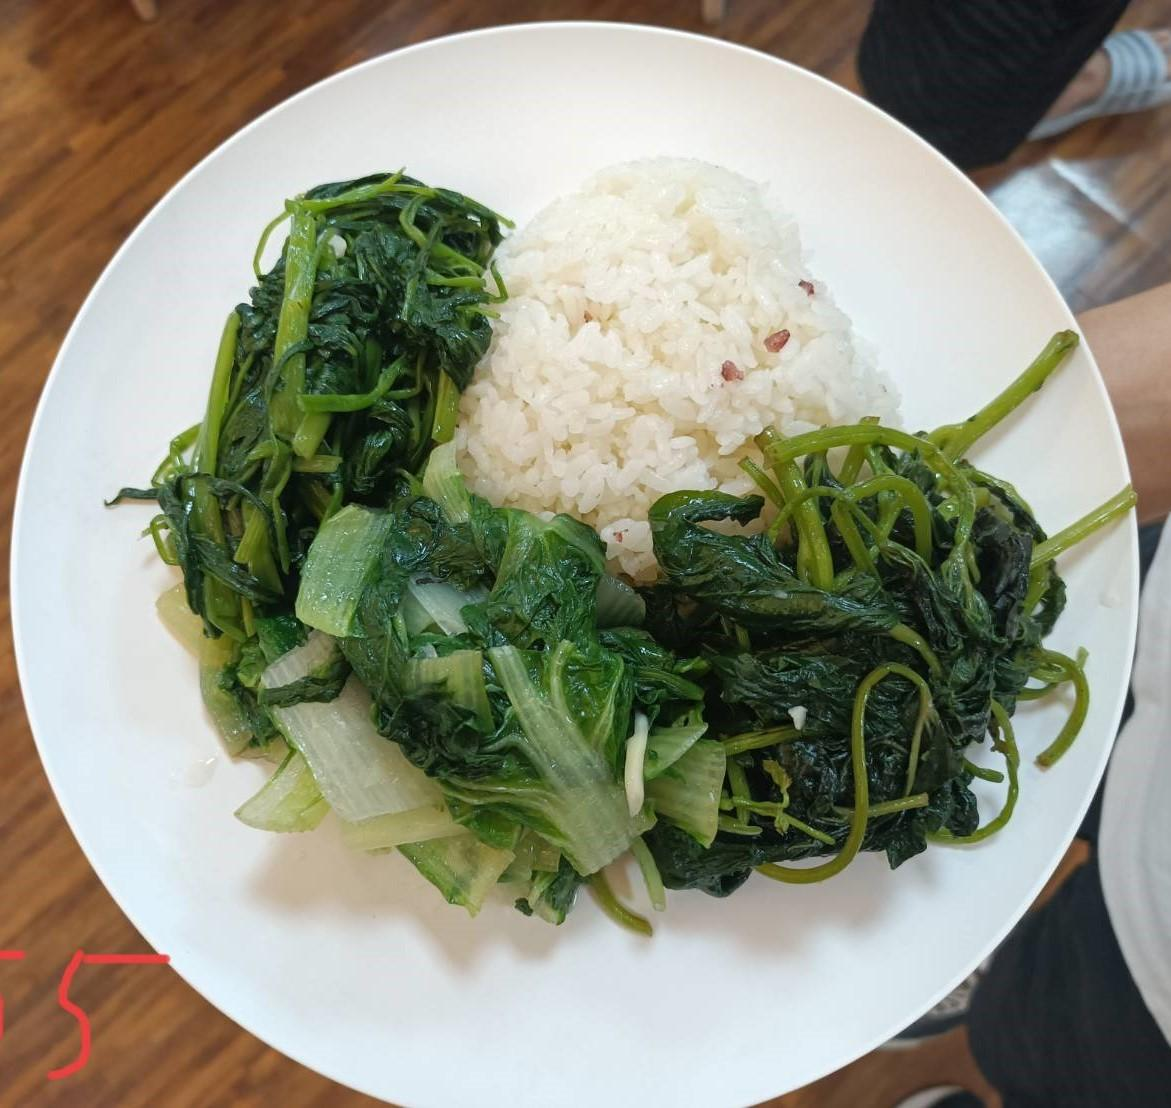big fried chicken leg: (23, 23, 1143, 1100)
big herbal chicken leg: (433, 188, 878, 550)
braised fish fillet: (221, 495, 678, 926), (706, 429, 1057, 906), (159, 188, 513, 598)
